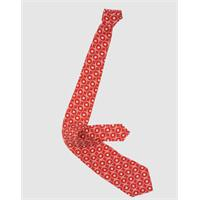tie: (62, 9, 153, 196)
